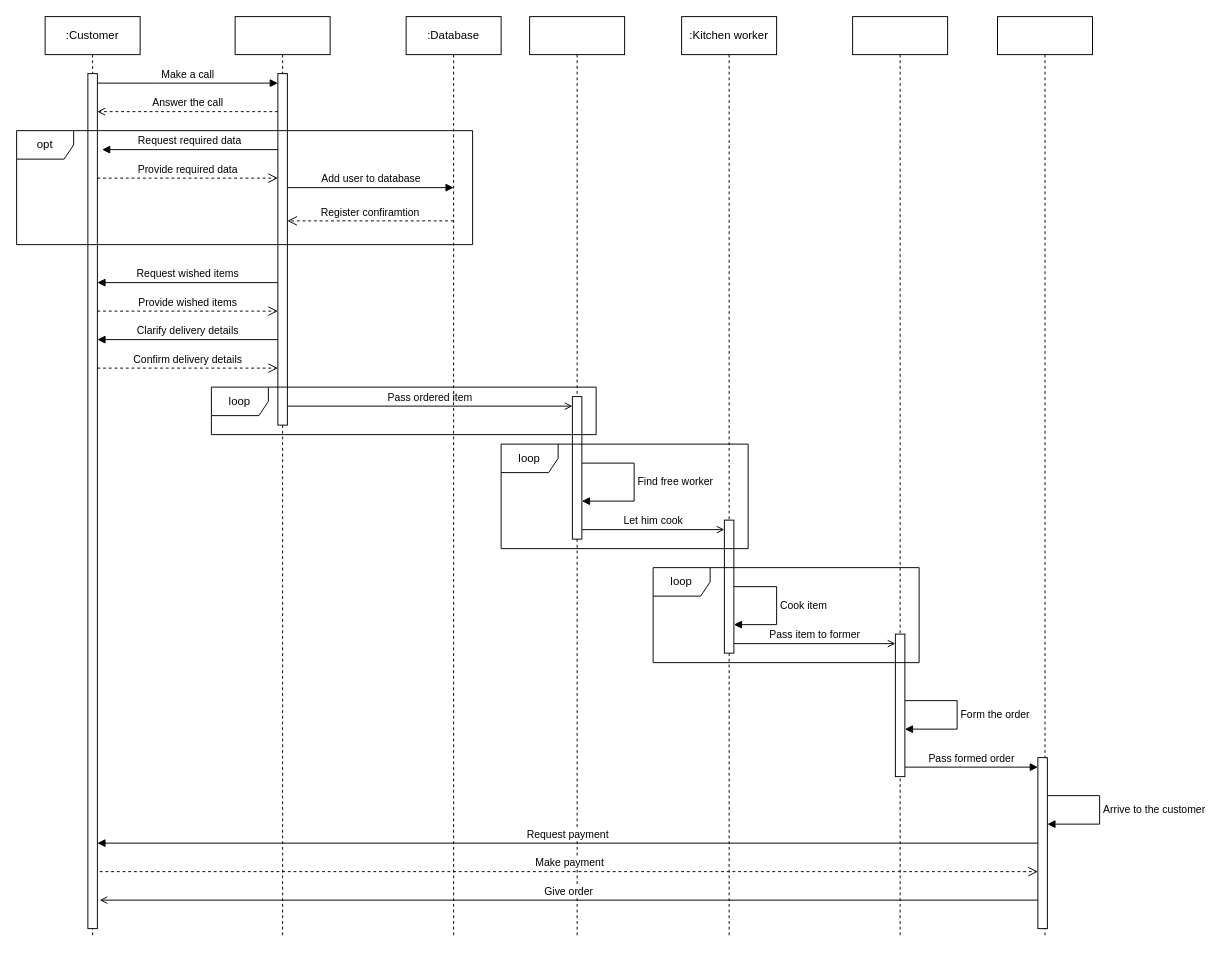
Some shapes in this 1223 by 955 pixel diagram are drawn without their labels. Each missing label, with the box of its shape:
:Courier: (997, 16, 1092, 938)
:Kitchen: (529, 16, 625, 938)
:Operator: (234, 16, 330, 938)
:Order former: (852, 16, 948, 938)
